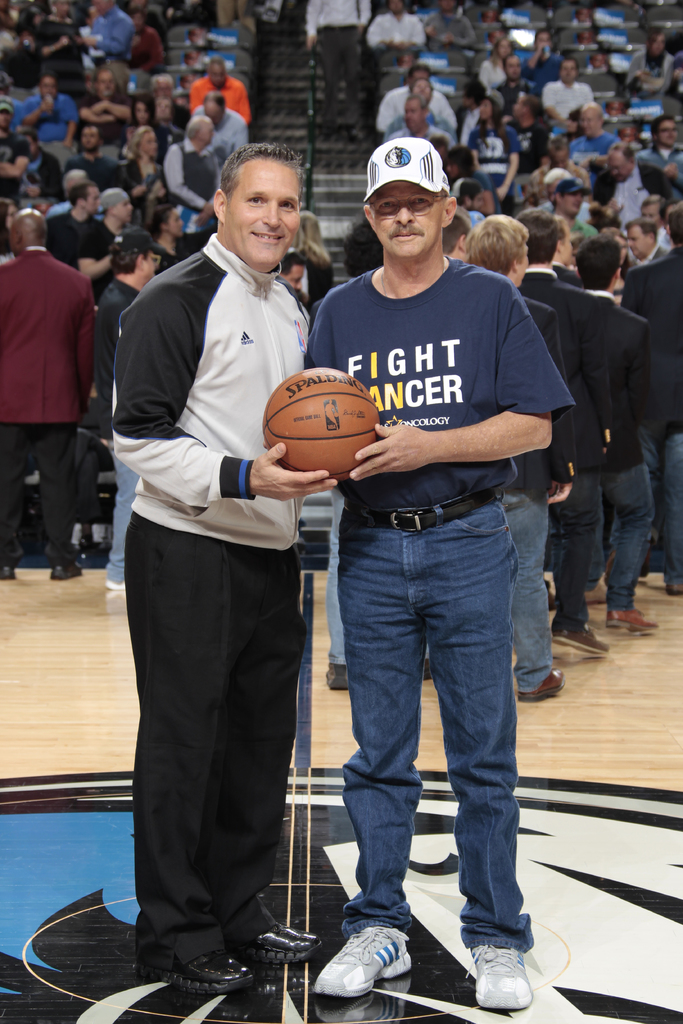Ball: (261, 364, 382, 488)
